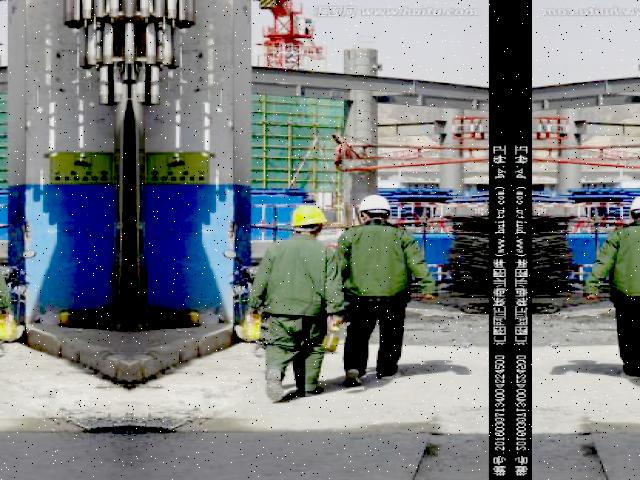Helmet: (284, 200, 328, 234), (349, 190, 394, 216)
